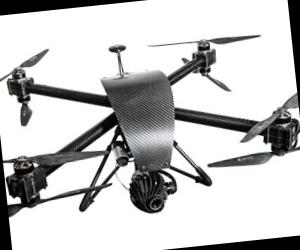drone: (0, 16, 300, 215)
